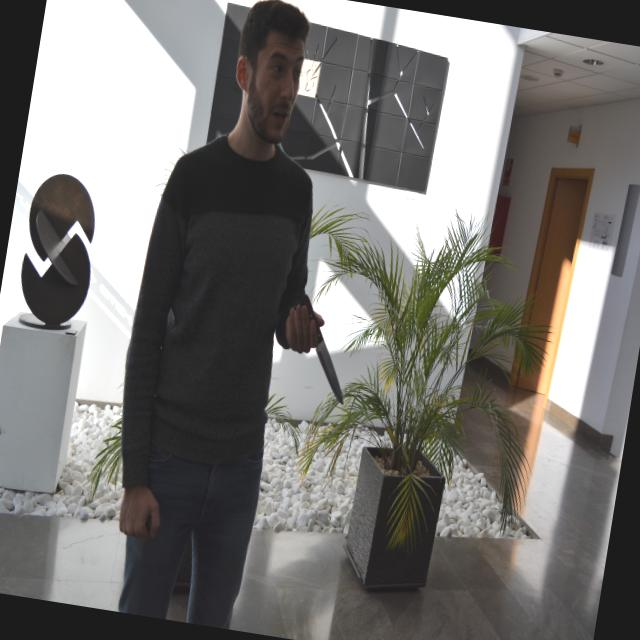knife: (284, 291, 361, 407)
